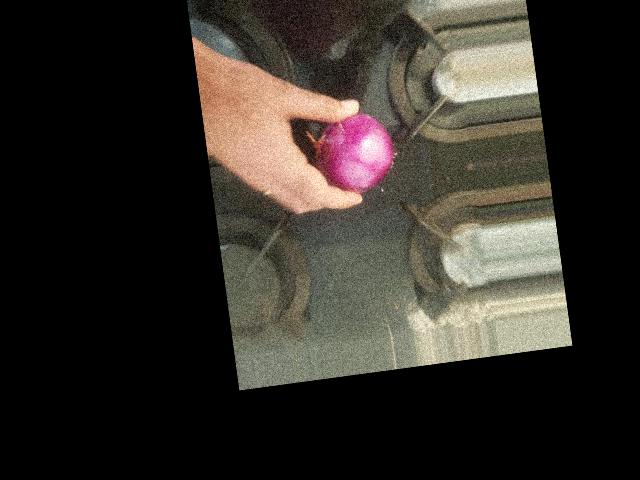onion: (309, 105, 398, 201)
